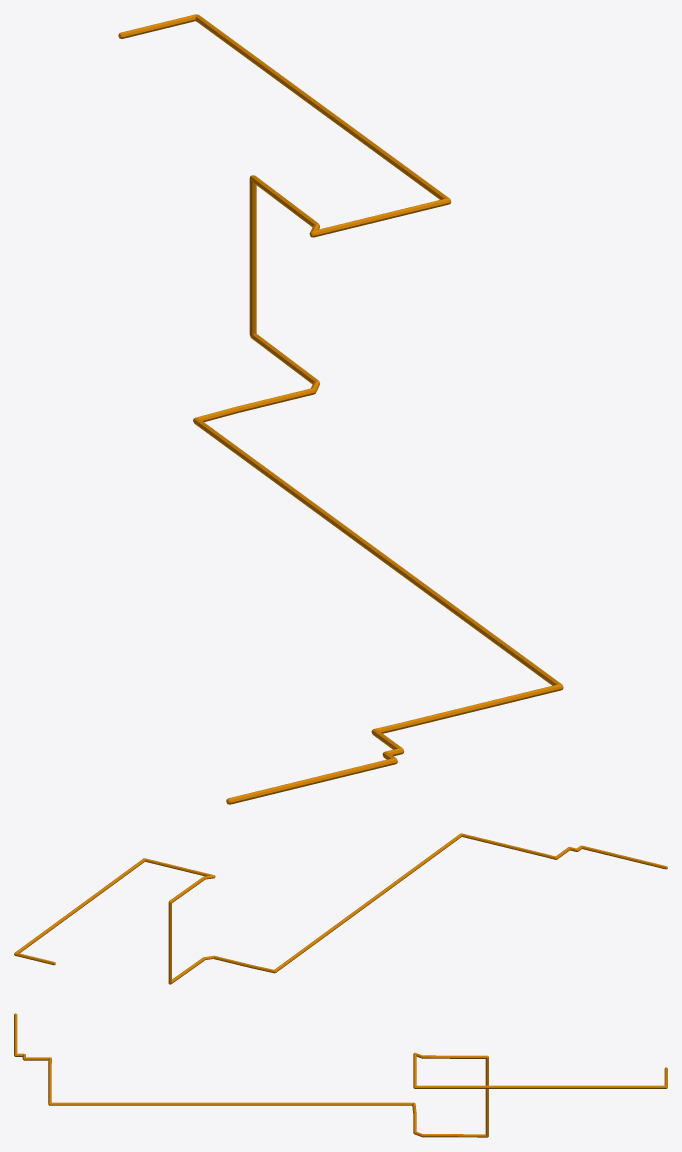
3 renders of one model, top to bottom at view 1: azimuth 30°, elevation 25°; view 2: azimuth 150°, elevation 25°; view 3: azimuth 270°, elevation 25°, orthographic. The views are drawn at different scales.
Bounding box in the file's own units: 2078 × 520 × 3774.
